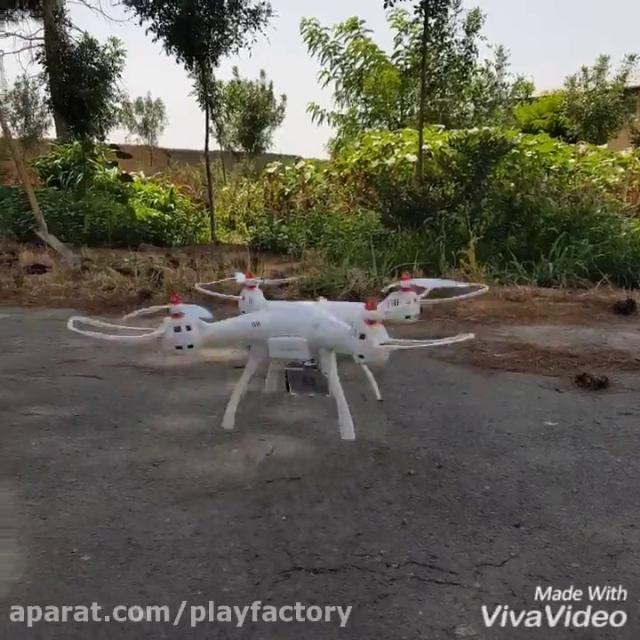drone: (66, 269, 492, 441)
